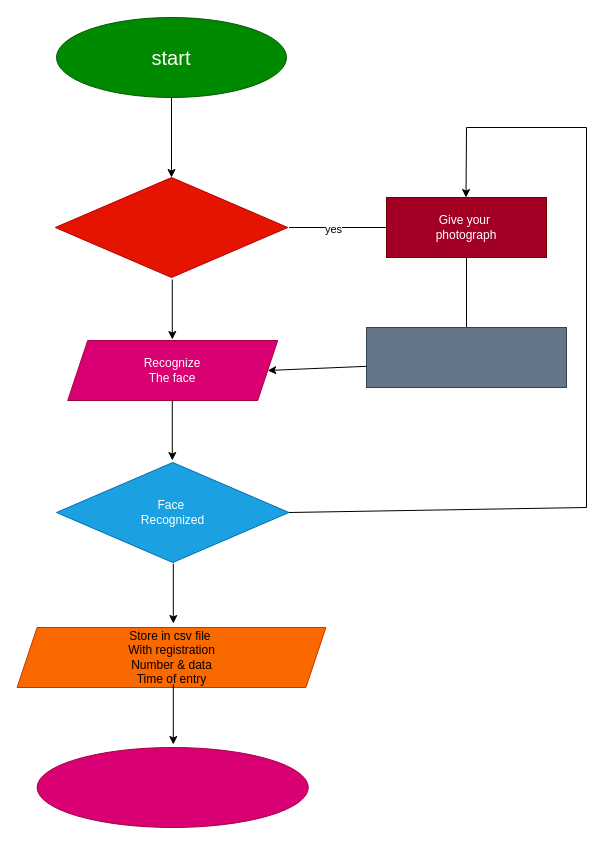
The diagram is 613 pixels wide and 845 high, and some of its shapes have lost their labels. The shapes that lost their labels are listed below. From the top down, each one's box as (x1, y1, x2, y2) in pixels, then its label:
(54, 176, 288, 278): New User?
(366, 326, 566, 388): Store the face Data in folder On your name
(36, 746, 308, 828): End
